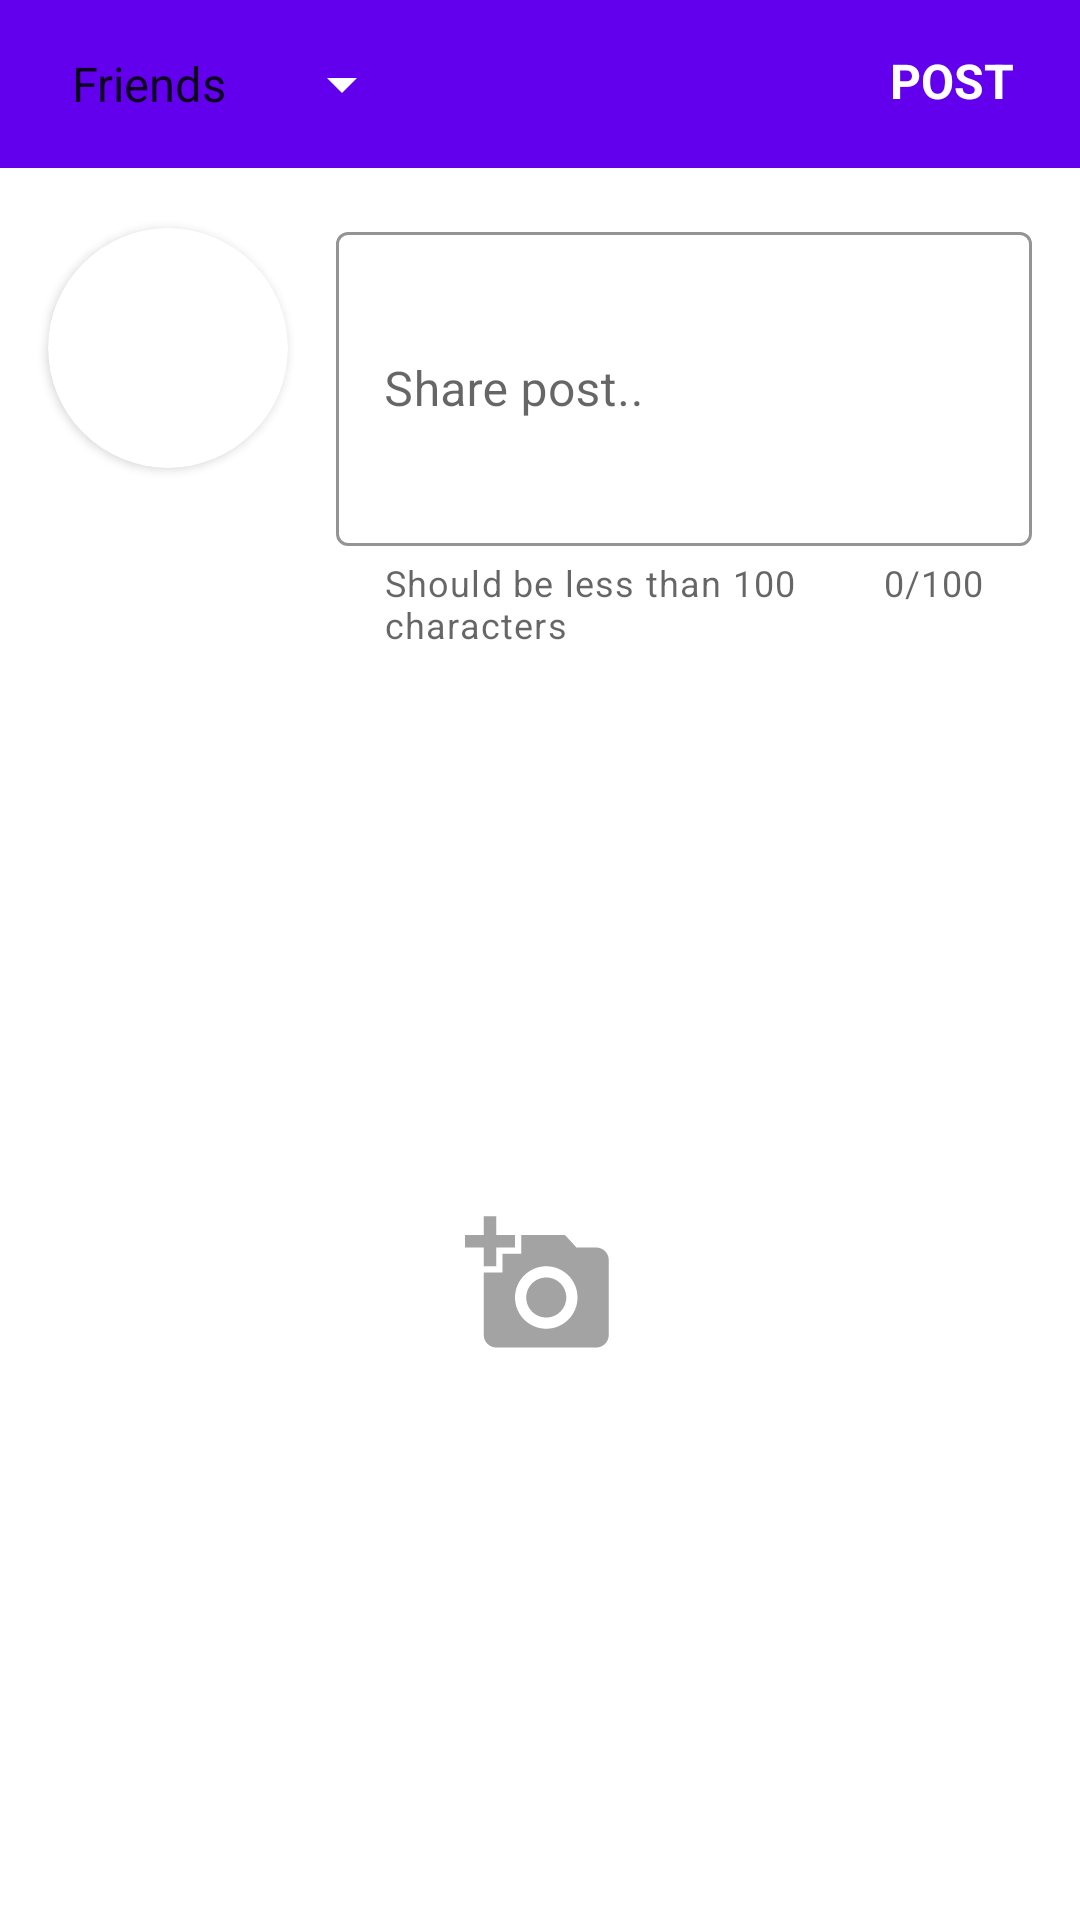

Icon bounding boxes for this 1080px×1920px phone screenshot, format (x1, y1, x2, y2):
add photo: (465, 1216, 609, 1348)
